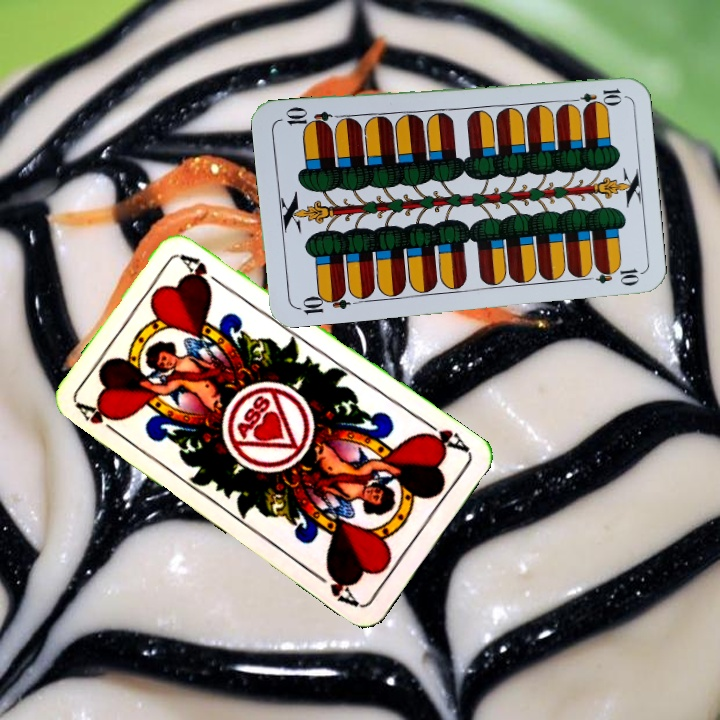E10: (293, 287, 352, 317), (565, 85, 624, 107)
HA: (416, 415, 472, 455), (73, 398, 126, 440)
